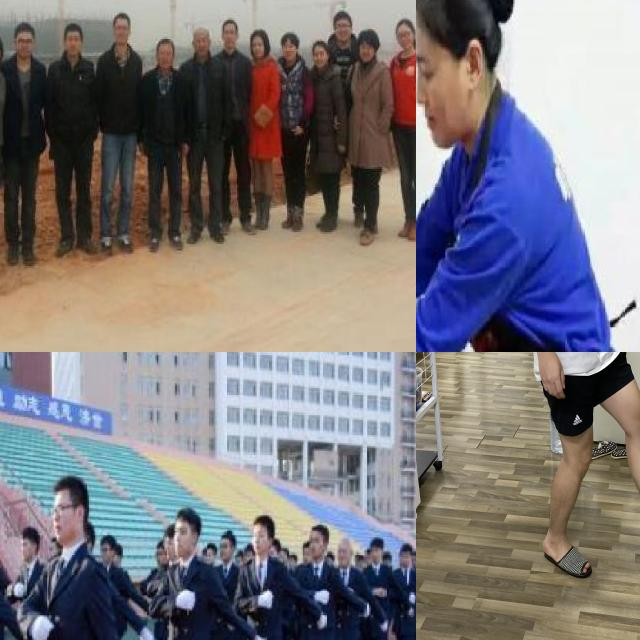No_Ear-Protection: (461, 36, 486, 88)
No_Glasses: (416, 42, 442, 94)
Sandals: (542, 512, 593, 579)
face_nomask: (416, 36, 473, 147), (49, 502, 83, 548), (172, 526, 194, 557), (249, 528, 266, 555), (394, 28, 414, 50), (64, 32, 82, 54), (334, 20, 352, 40), (16, 36, 32, 57), (194, 36, 210, 57), (222, 27, 238, 48), (358, 42, 377, 59), (158, 48, 174, 68), (116, 23, 130, 44), (312, 48, 327, 67), (282, 42, 298, 58), (250, 40, 264, 56)
hand_glove: (29, 606, 53, 640), (177, 586, 195, 616), (258, 585, 276, 614), (315, 586, 331, 602), (380, 616, 390, 638), (140, 625, 154, 640), (253, 629, 272, 640), (317, 612, 329, 628), (15, 578, 26, 592), (363, 600, 371, 619)
head_nohelmet: (416, 0, 511, 43), (52, 466, 91, 497), (14, 523, 40, 545), (174, 514, 200, 529), (356, 30, 378, 47), (14, 21, 35, 38), (332, 10, 354, 26), (252, 519, 271, 537), (192, 26, 210, 42), (220, 16, 239, 31), (248, 28, 268, 42), (156, 36, 174, 51), (394, 17, 416, 29), (64, 22, 81, 36), (281, 31, 298, 45), (112, 11, 130, 24), (314, 525, 328, 540), (310, 39, 326, 51)
person: (416, 0, 640, 352), (37, 466, 140, 640), (0, 20, 53, 275), (46, 23, 100, 265), (94, 11, 146, 262), (138, 31, 190, 258), (182, 22, 230, 252), (343, 30, 392, 252), (208, 15, 256, 241), (144, 503, 216, 640), (301, 37, 346, 241), (242, 22, 284, 237), (275, 30, 312, 236), (236, 501, 289, 640), (385, 14, 416, 248), (290, 517, 346, 640)
shoes: (255, 194, 276, 232), (117, 230, 141, 256), (314, 209, 338, 234), (74, 234, 98, 258), (52, 234, 74, 260), (166, 226, 188, 252), (285, 206, 307, 232), (355, 220, 377, 246), (19, 243, 40, 270), (96, 233, 118, 258), (206, 220, 228, 244), (236, 208, 256, 234), (145, 230, 166, 253), (281, 203, 296, 230), (188, 222, 206, 244), (5, 242, 20, 267), (405, 218, 416, 242)
